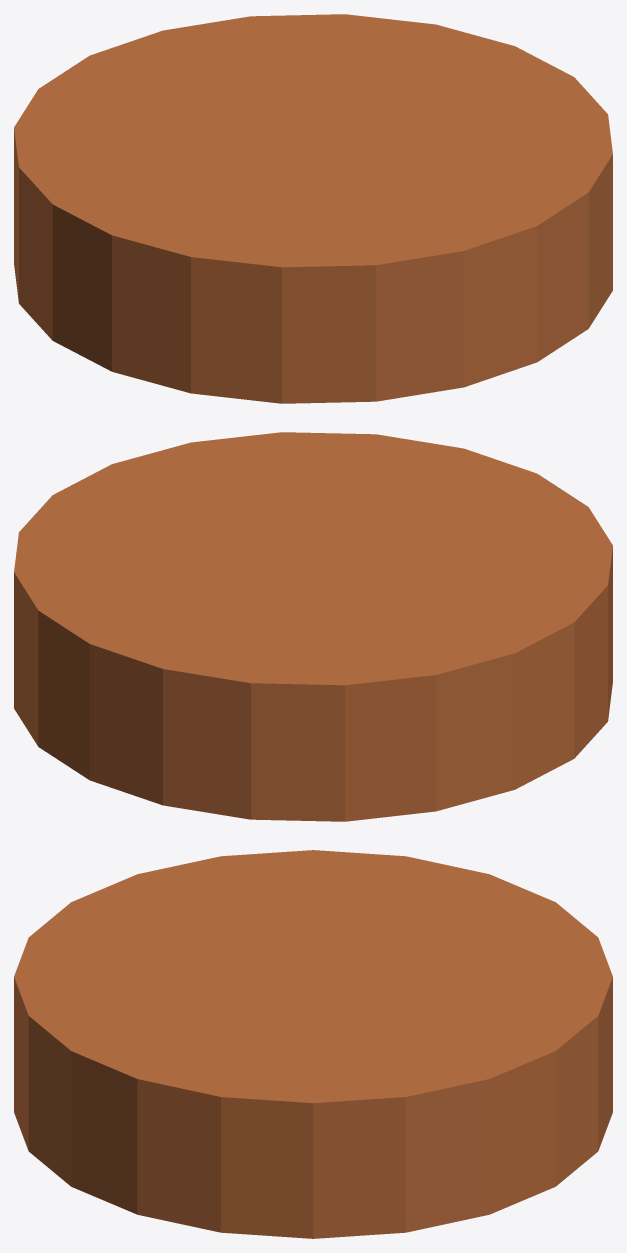
Rendered from Item_OR_Coin_26.glb.
3 views of the same model, one above another, from view 1: azimuth 30°, elevation 25°; view 2: azimuth 150°, elevation 25°; view 3: azimuth 270°, elevation 25° (orthographic).
Visible parts, largest first — view 1: Item_OR_Coin_26; view 2: Item_OR_Coin_26; view 3: Item_OR_Coin_26.
Part boxes in pixels (box(x1,y1,x2,y2)): Item_OR_Coin_26: box(14, 14, 612, 403); Item_OR_Coin_26: box(14, 432, 612, 821); Item_OR_Coin_26: box(14, 850, 612, 1238).
Size of the model in its own units: 0.026 by 0.0065 by 0.026.
